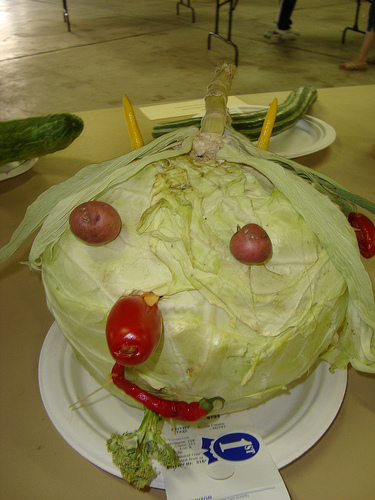cabbage: (0, 60, 373, 422)
